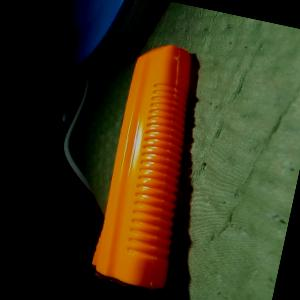estilete: (83, 37, 217, 300)
